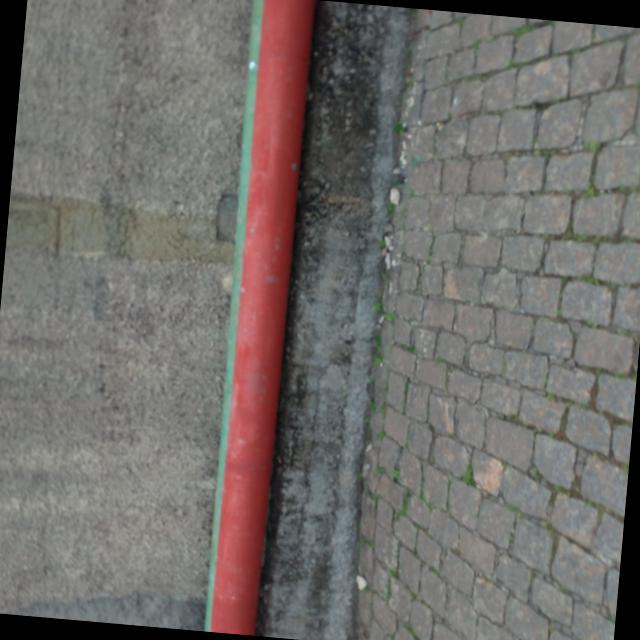gas: (205, 0, 317, 636)
